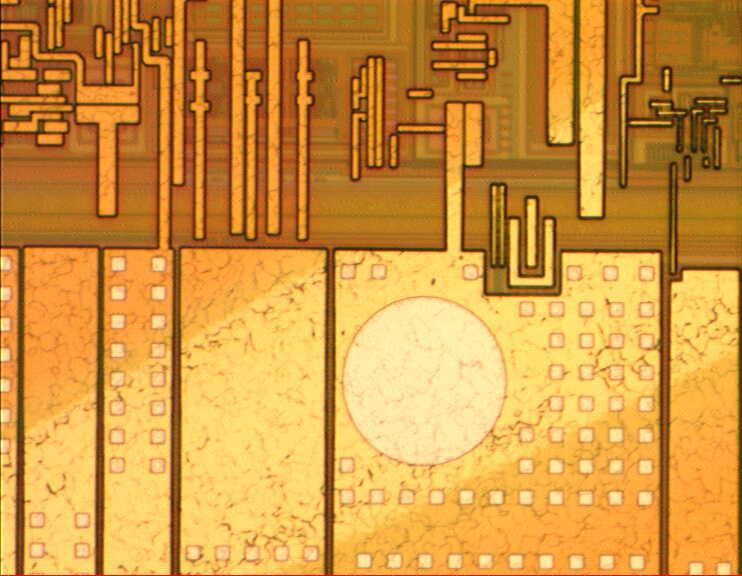COATING BAD: (1, 29, 742, 576)
